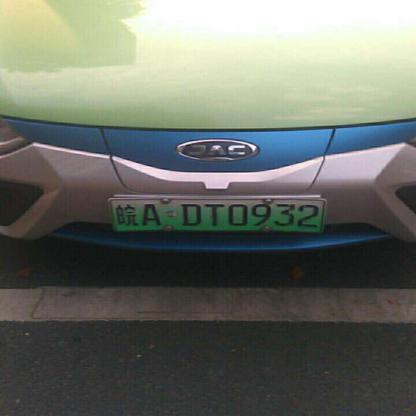lp: (108, 199, 324, 232)
